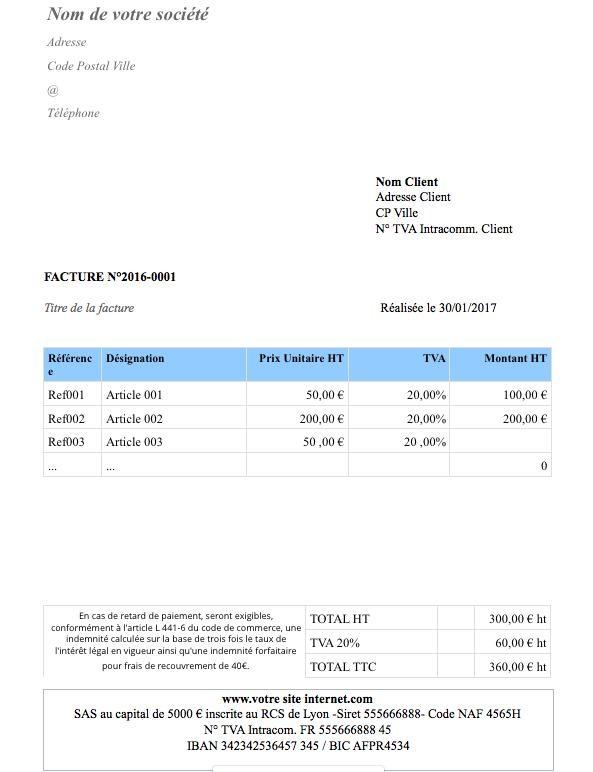ROI: (44, 345, 555, 481), (41, 0, 267, 139), (33, 262, 524, 318), (50, 607, 302, 680), (304, 606, 552, 679), (366, 169, 531, 240)
